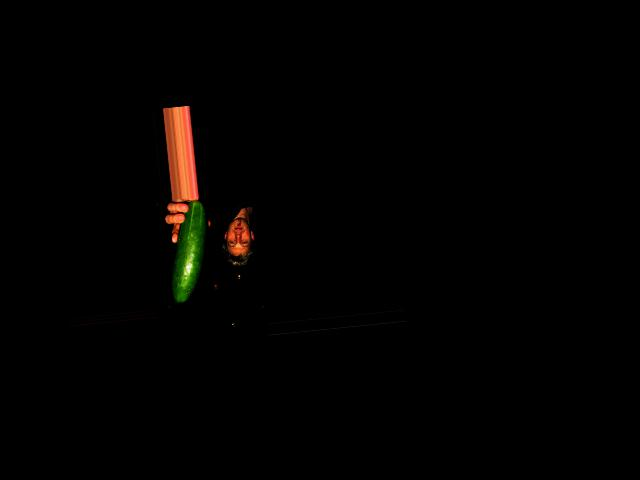cucumber: (162, 200, 214, 303)
